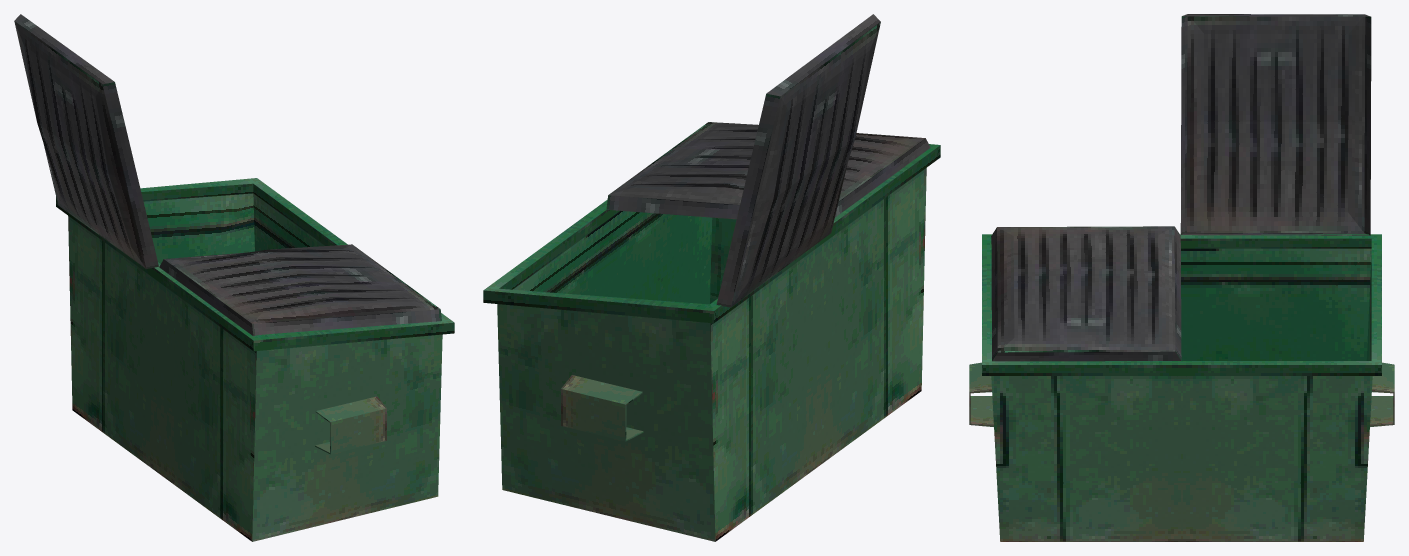
File: dumpster_diagonal_empty_open.glb
3 views of the same model, side by side, from view 1: azimuth 30°, elevation 25°; view 2: azimuth 150°, elevation 25°; view 3: azimuth 270°, elevation 25° (orthographic). The views are drawn at different scales.
Parts seen in each view (by area): view 1: dumpster_diagonal_empty_open; view 2: dumpster_diagonal_empty_open; view 3: dumpster_diagonal_empty_open.
Part boxes in pixels (box(x1,y1,x2,y2)): dumpster_diagonal_empty_open: box(14, 14, 454, 541); dumpster_diagonal_empty_open: box(483, 14, 940, 541); dumpster_diagonal_empty_open: box(969, 14, 1394, 541).
Size of the model in its own units: 2.53 by 3.91 by 3.67.
Materials: 1 (1 with a texture image).
